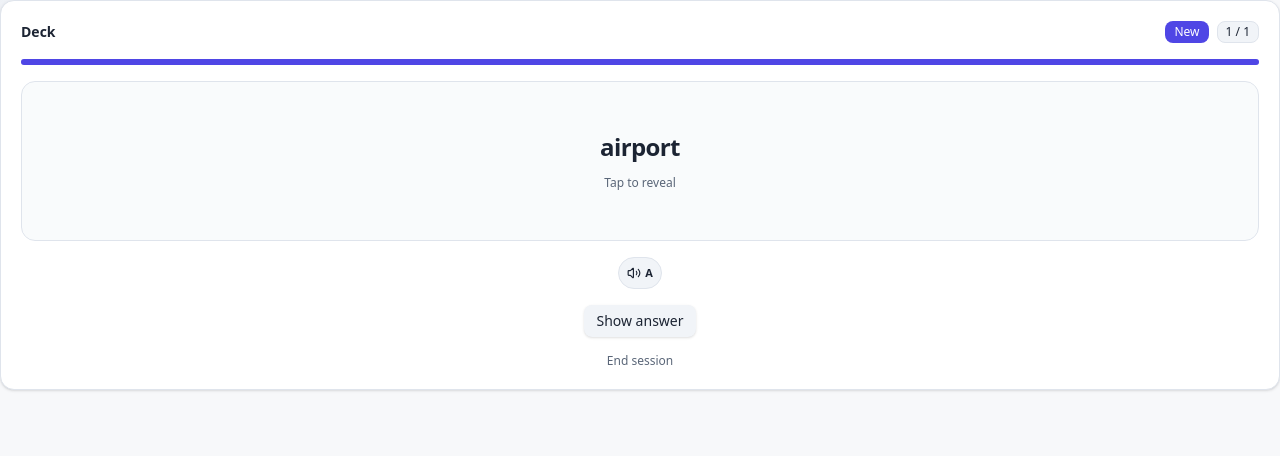
Scenario: StudySession › al voltear sin reverso pide la traducción al diccionario y la pinta
Click the button with aria-label "Flip card" at (640, 161), box [21,81,1259,241]
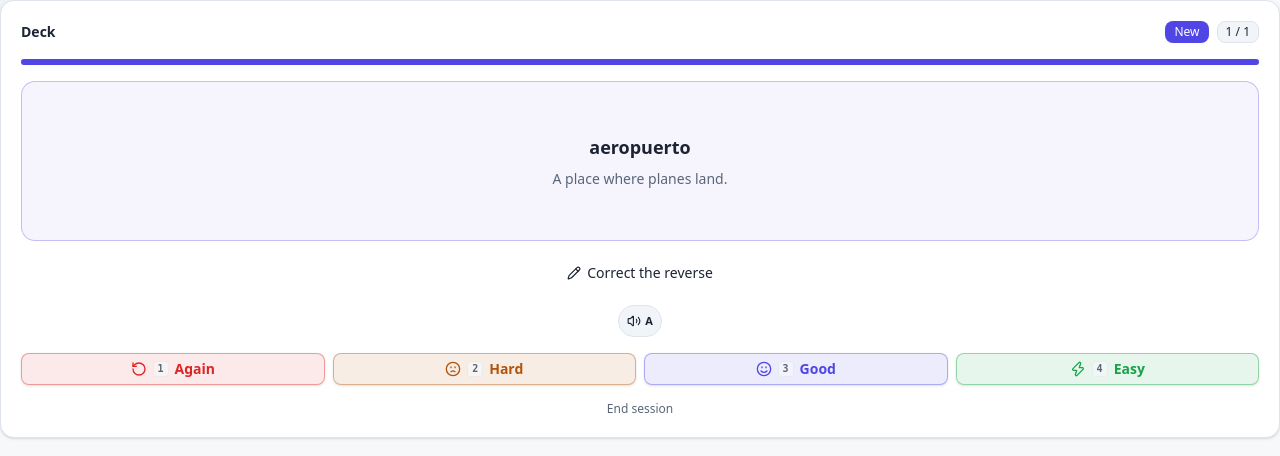
Expected: the text "airport" is shown, [600,145,680,177]
Now the text "aeropuerto" is shown, box [589,133,691,161]
Now the text "A place where planes land." is shown, box [552,169,728,189]
